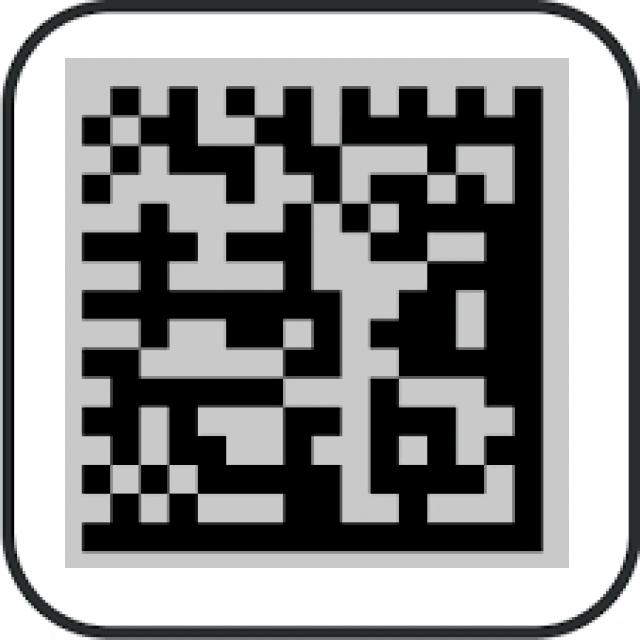DataMatrix: (65, 58, 569, 568)
